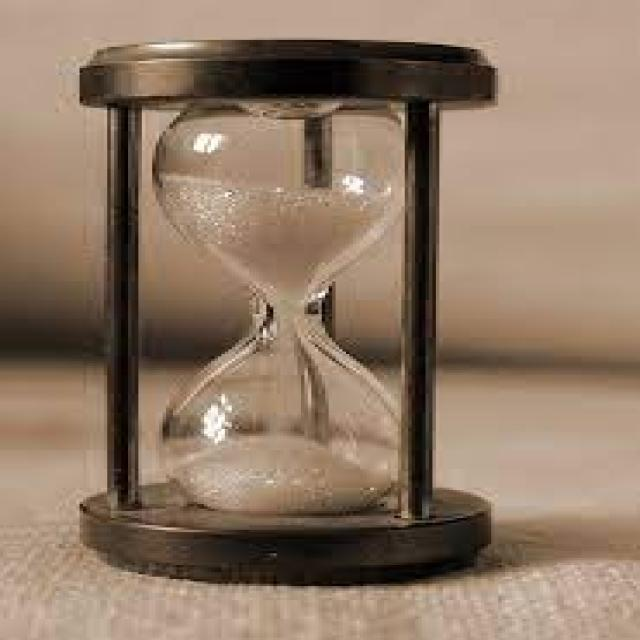clock: (51, 34, 546, 579)
